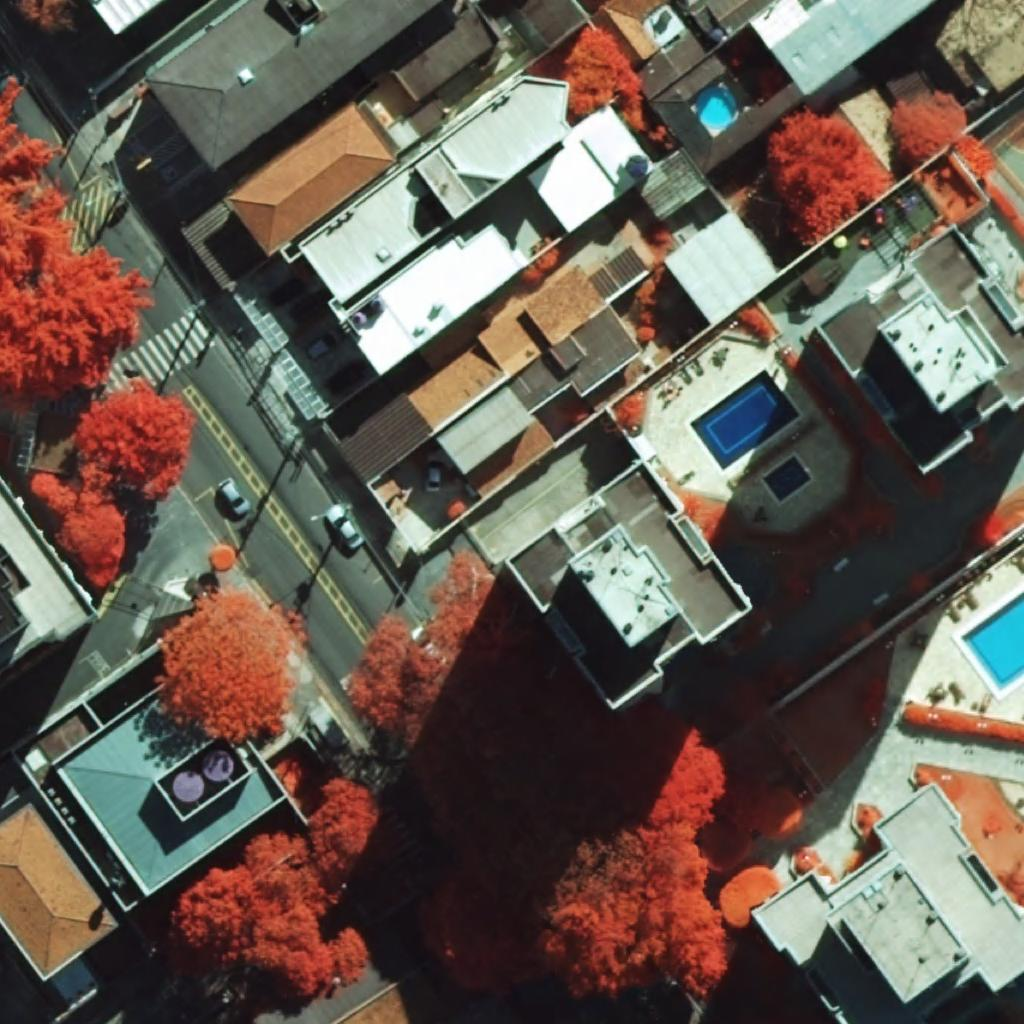pool: (691, 370, 798, 469), (962, 593, 1024, 690), (763, 457, 811, 501), (697, 86, 738, 127)
